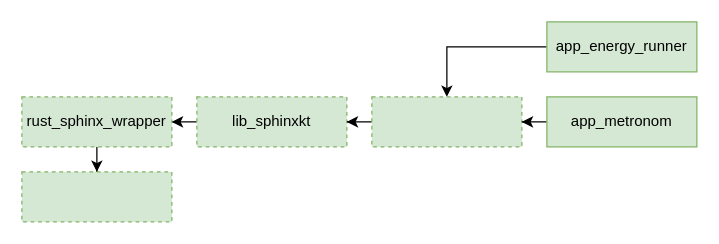
The diagram is 719 pixels wide and 244 high, and some of its shapes have lost their labels. Here are the shapes that lost their labels. From the top down, the box of each, then its label:
(371, 96, 522, 147): lib_common
(21, 171, 172, 222): nymtech/sphinx
